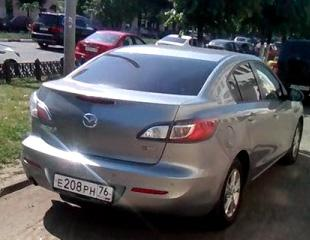license-plateSW: (53, 174, 113, 202)
